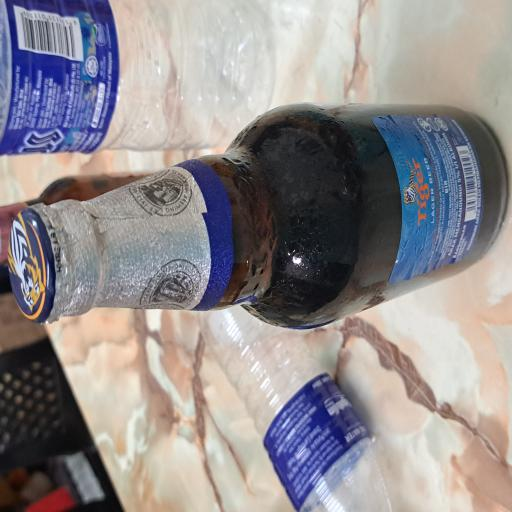glass bottle: (138, 7, 310, 512)
plastic bottle: (268, 0, 384, 370), (0, 264, 159, 512)
